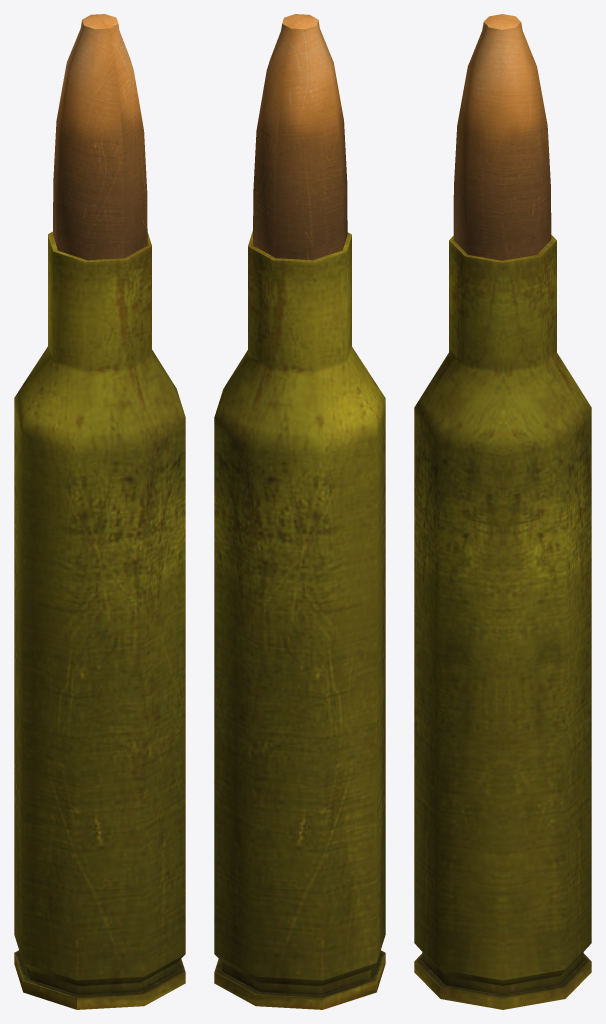
The model's file is zidan-001.fbx.
3 renders of one model, left to right at view 1: azimuth 30°, elevation 25°; view 2: azimuth 150°, elevation 25°; view 3: azimuth 270°, elevation 25°, orthographic.
Visible parts, largest first — view 1: Shell, Bullet; view 2: Shell, Bullet; view 3: Shell, Bullet.
Boxes of the visible parts, box(x1,y1,x2,y2) form: Shell: box(14, 231, 185, 1009); Bullet: box(53, 14, 147, 260); Shell: box(214, 231, 385, 1009); Bullet: box(253, 14, 347, 260); Shell: box(414, 235, 591, 1009); Bullet: box(453, 14, 551, 260).
Bounding box in the file's own units: 1.18 × 7.03 × 1.18.
Materials: 2 (2 with a texture image).
